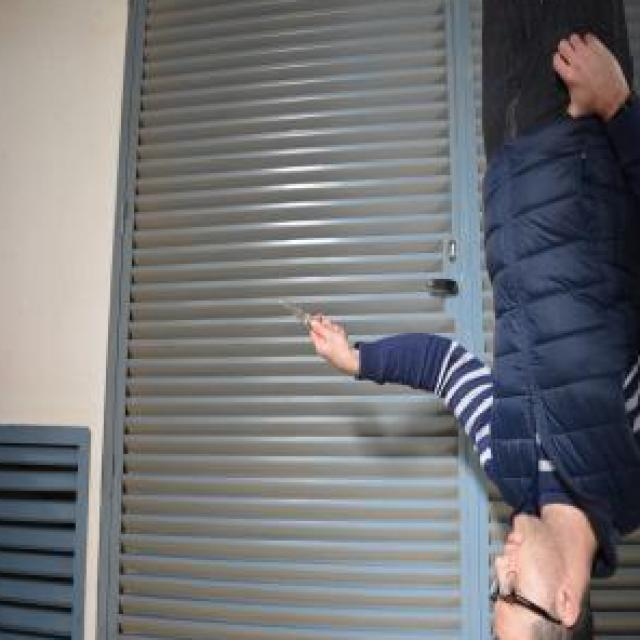knife: (275, 299, 348, 344)
